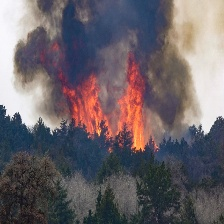fire: (117, 64, 155, 151), (62, 75, 113, 138)
smoke: (13, 1, 203, 124)
